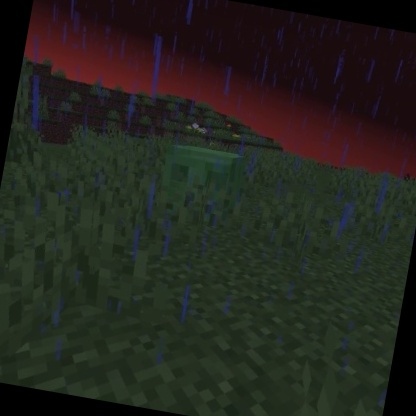slime: (154, 138, 249, 216)
